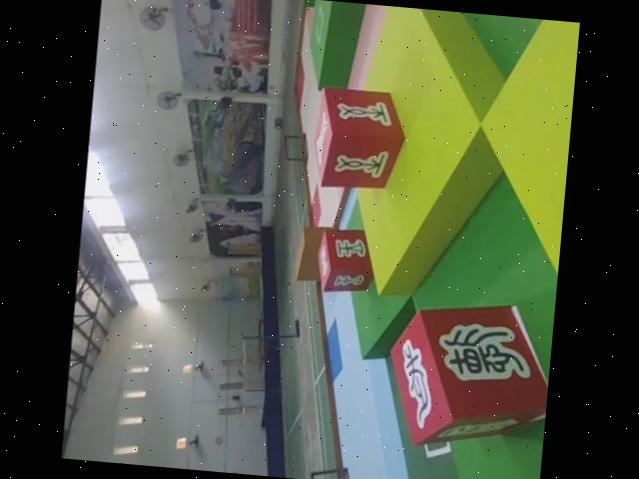R2 Fake: (375, 291, 554, 455)
R2 Real: (305, 85, 412, 194), (312, 227, 377, 296)
